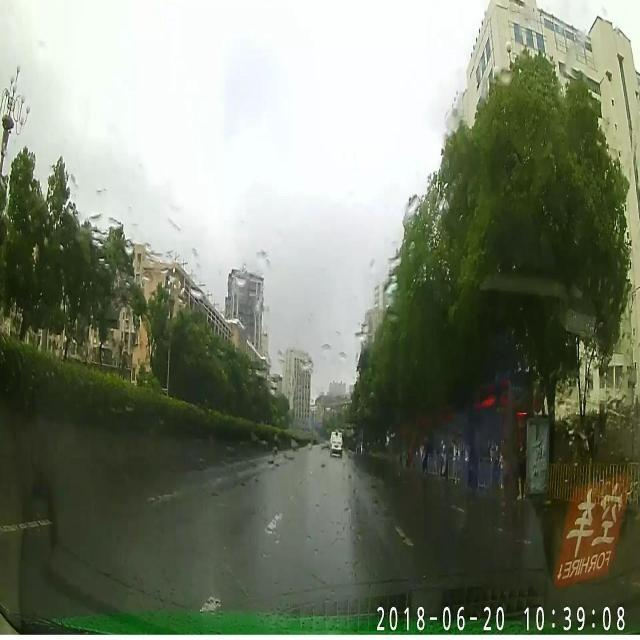car: (328, 427, 342, 458)
